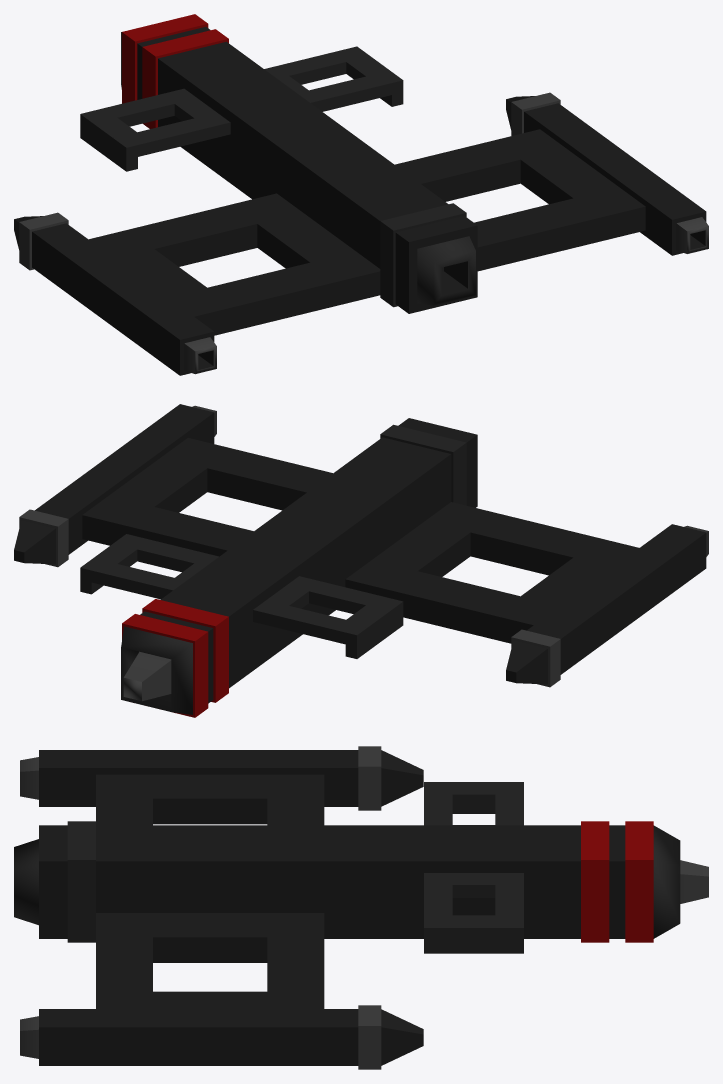
Rendered from Scout.dae.
3 renders of one model, top to bottom at view 1: azimuth 30°, elevation 25°; view 2: azimuth 150°, elevation 25°; view 3: azimuth 270°, elevation 25°, orthographic. The views are drawn at different scales.
Parts seen in each view (by area): view 1: Box, Box_18, Box_1, Box_3, Box_8, Box_4, Box_6, Box_7, Box_2, Box_10, Box_split_262981520, Box_21 (+11 smaller); view 2: Box, Box_18, Box_1, Box_3, Box_4, Box_8, Box_6, Box_7, Box_10, Box_2, Box_split_262757808, Box_19 (+11 smaller); view 3: Box, Box_8, Box_18, Box_7, Box_5, Box_3, Box_1, Box_4, Box_19, Box_20, Box_21, Box_2 (+14 smaller).
Part boxes in pixels (x1,y1,x2,y2): Box: (137,27,477,313); Box_18: (32,223,214,375); Box_1: (207,198,599,330); Box_3: (128,140,520,266); Box_8: (524,103,706,255); Box_4: (494,129,645,241); Box_6: (231,193,380,305); Box_7: (89,230,233,335); Box_2: (118,71,401,156); Box_10: (82,46,368,126); Box_split_262981520: (417,236,475,305); Box_21: (380,203,466,307); Box: (140,418,477,703); Box_18: (527,524,706,674); Box_1: (207,449,599,575); Box_3: (128,507,519,639); Box_4: (82,438,232,545); Box_8: (35,404,214,554); Box_6: (345,502,496,598); Box_7: (494,538,638,643); Box_10: (85,558,368,644); Box_2: (116,534,401,614); Box_split_262757808: (121,626,192,714); Box_19: (122,614,208,717); Box: (39,825,625,938); Box_8: (39,1009,358,1065); Box_18: (39,750,358,806); Box_7: (96,774,324,824); Box_5: (96,913,324,962); Box_3: (267,798,324,991); Box_1: (96,798,152,991); Box_4: (96,991,324,1008); Box_19: (625,821,653,942); Box_20: (581,821,609,942); Box_21: (67,821,95,942); Box_2: (424,782,452,927).
Size of the model in its own units: 1.16 by 0.1725 by 1.22.
